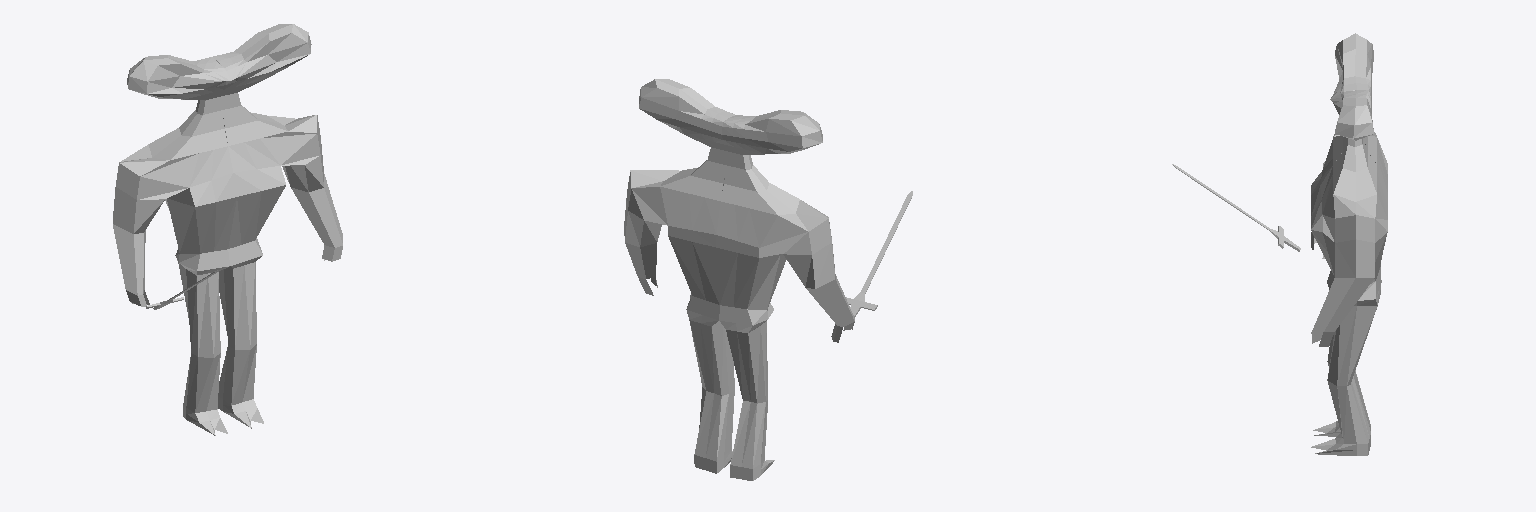
File: Swordsman.obj
3 views of the same model, side by side, from view 1: azimuth 30°, elevation 25°; view 2: azimuth 150°, elevation 25°; view 3: azimuth 270°, elevation 25° (orthographic).
Visible parts, largest first — view 1: Cube; view 2: Cube, Plane; view 3: Cube, Plane.
Boxes of the visible parts, box(x1,y1,x2,y2) form: Cube: box(113, 24, 342, 435); Cube: box(624, 79, 854, 480); Plane: box(846, 191, 912, 317); Cube: box(1311, 33, 1387, 455); Plane: box(1172, 164, 1300, 251).
Bounding box in the file's own units: 0.9999 × 1.63 × 0.858.